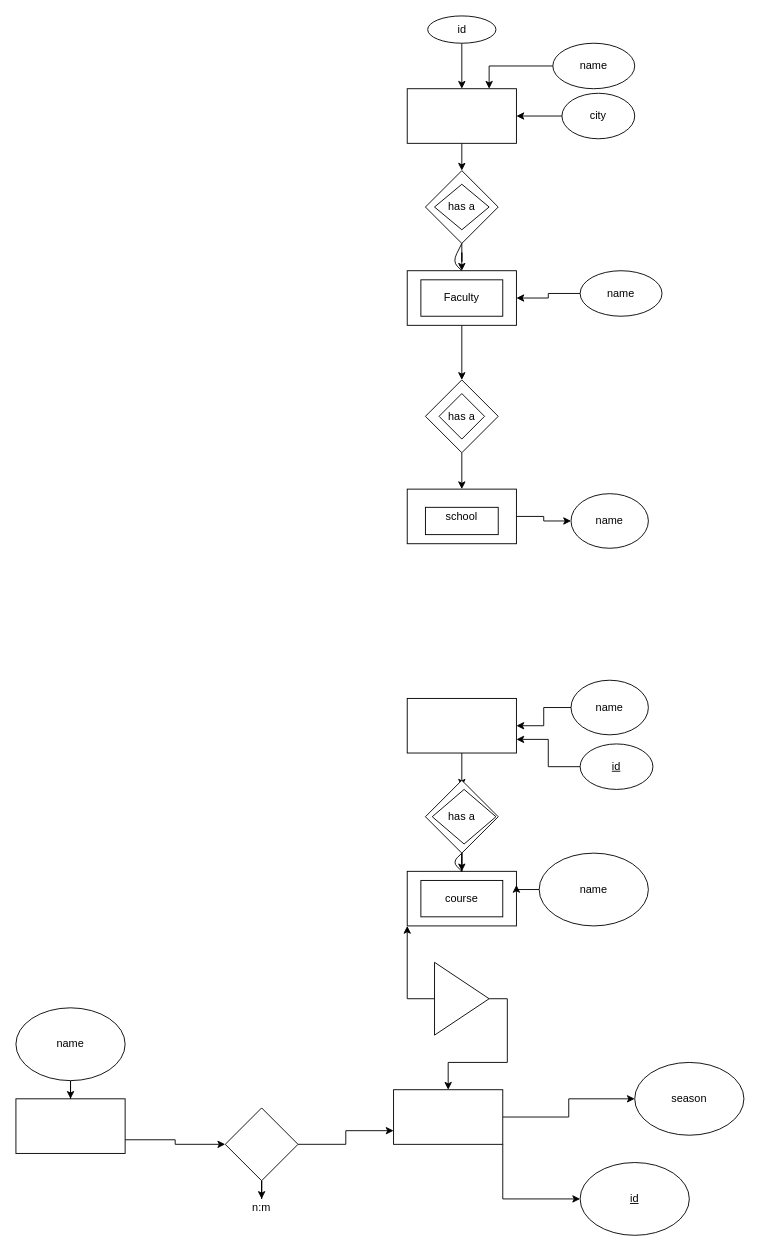
Image size: 760x1251. Some labels were removed from this diagram. Each missing label, with the centre of its shape:
"is a" belongs at point 461,998.
"lecturer" belongs at point 70,1125.
"program" belongs at point 461,725.
"sub course" belongs at point 448,1116.
"teach" belongs at point 261,1144.
"uni" belongs at point 461,115.
